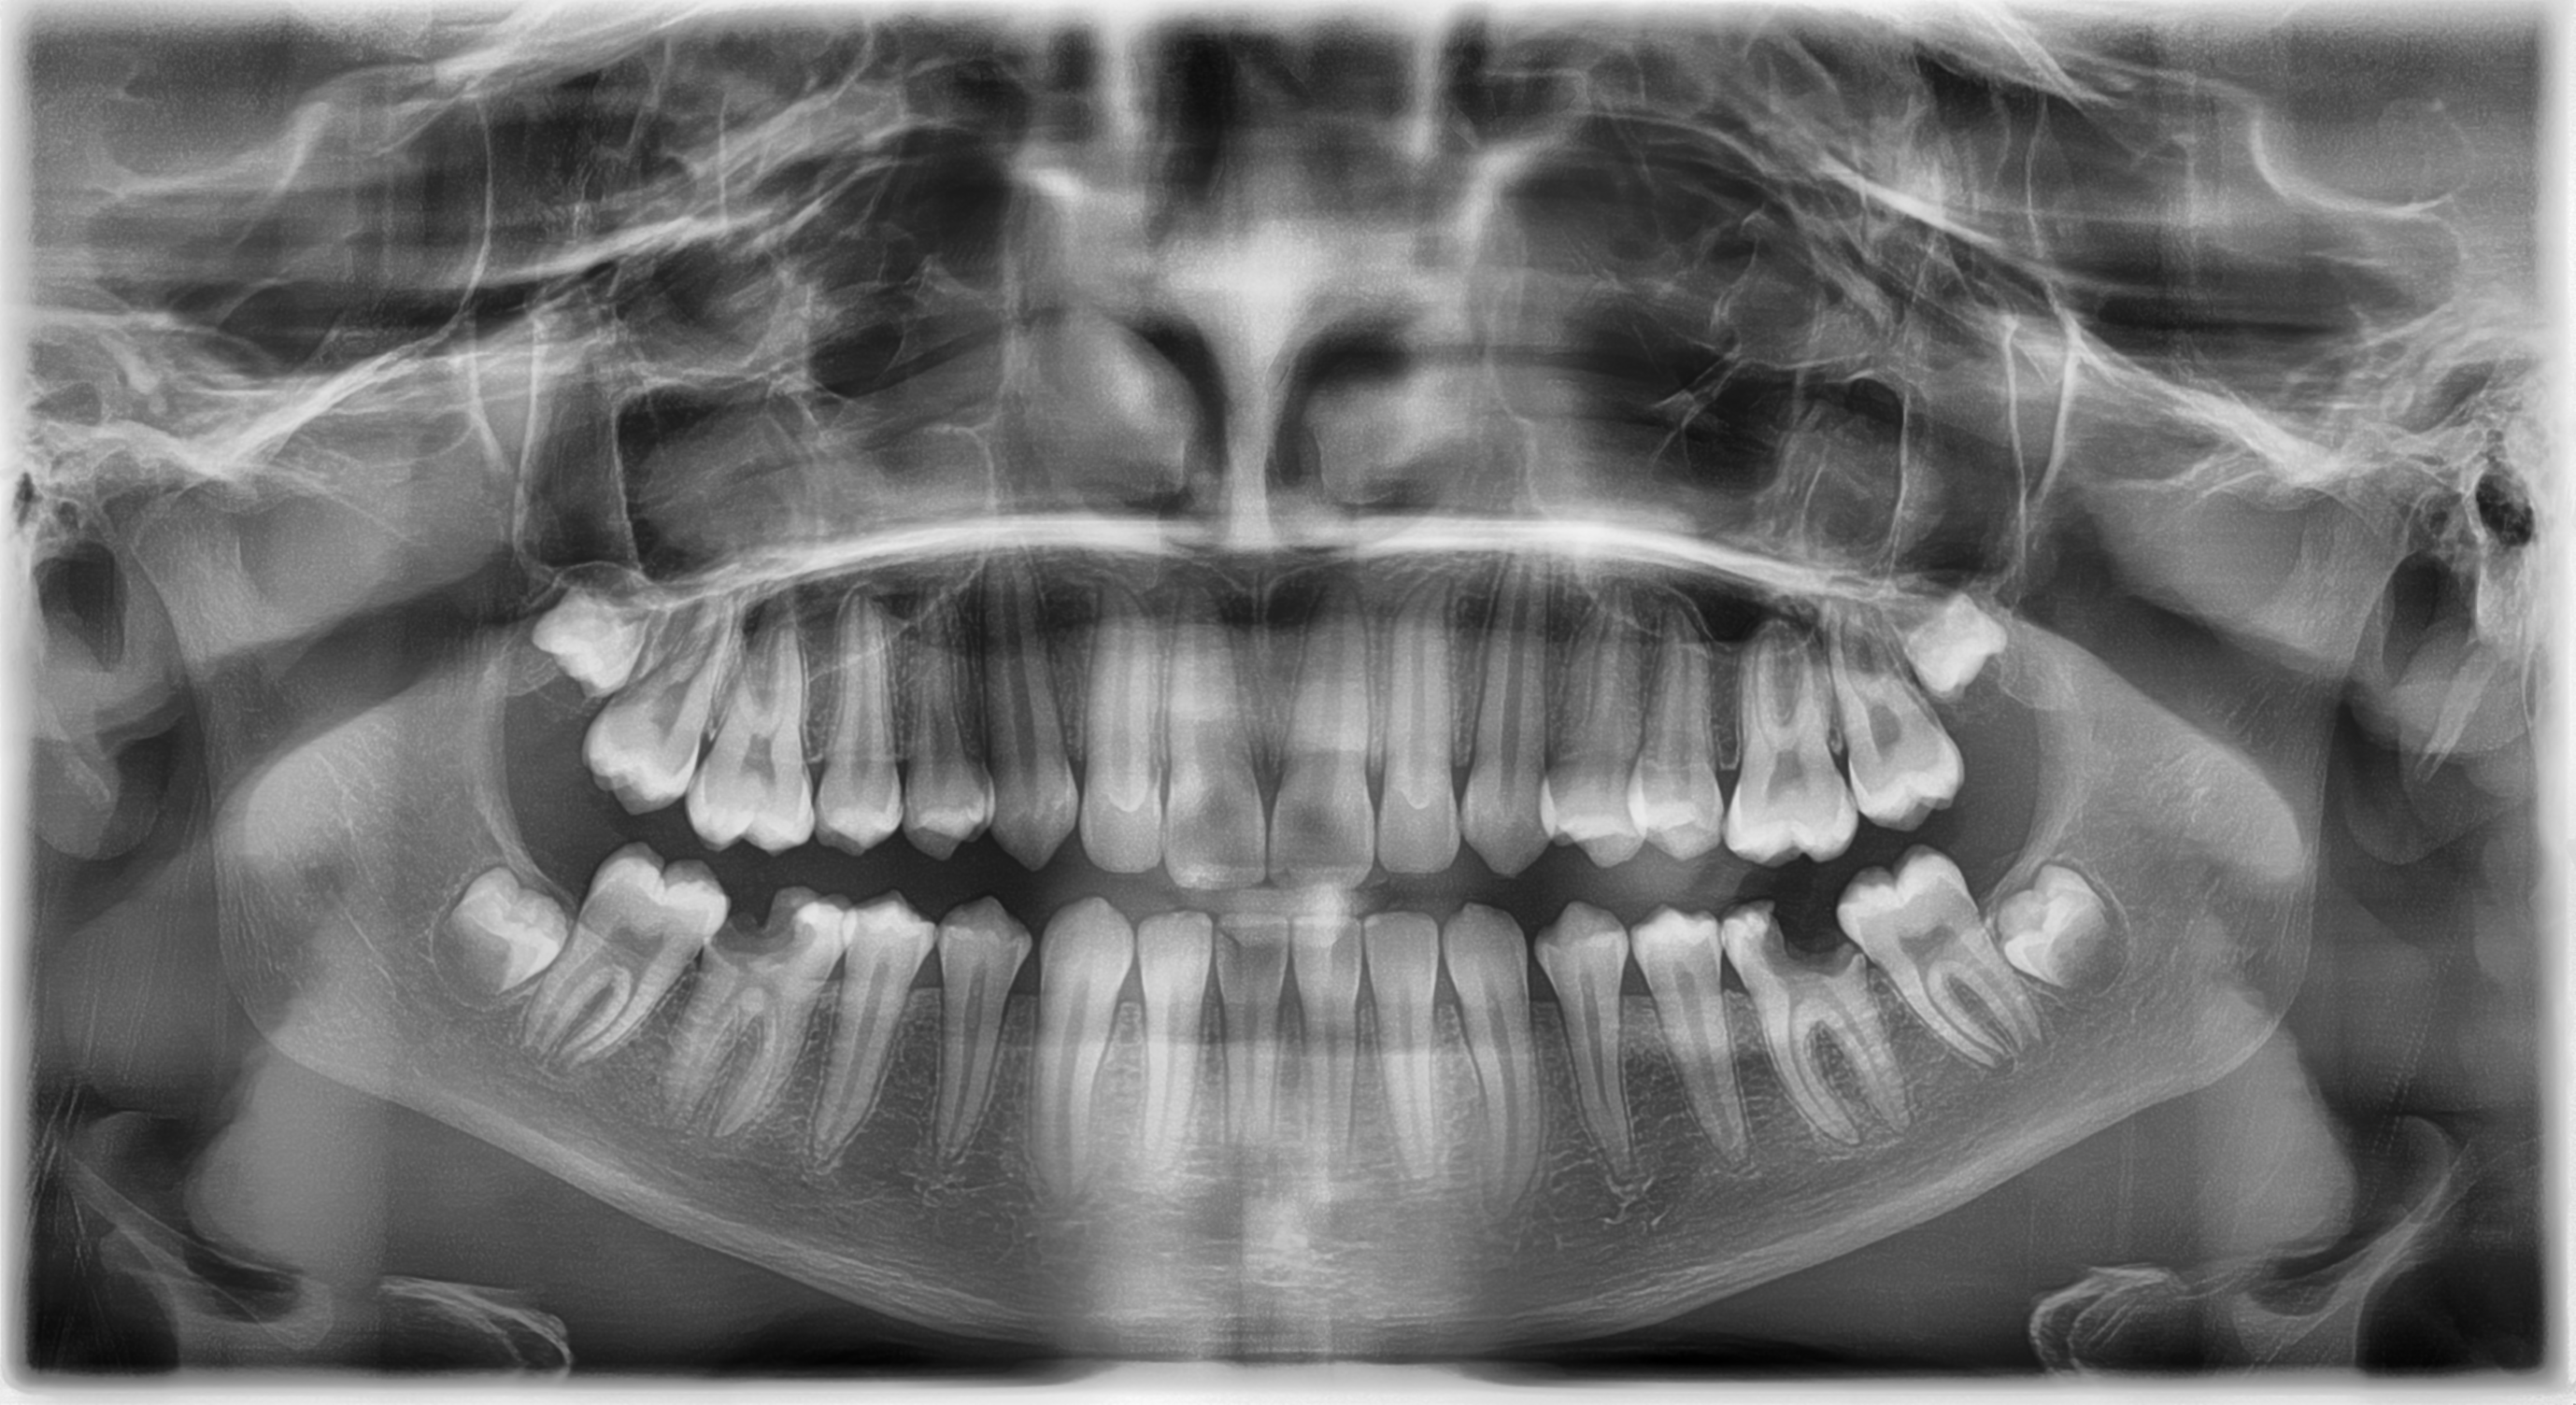caries: (1708, 893, 1889, 1038), (683, 869, 865, 1014)
cordal: (391, 812, 600, 1038), (481, 517, 690, 744), (1946, 801, 2156, 1028), (1862, 526, 2071, 753)
fractura: (1192, 900, 1311, 1016)
